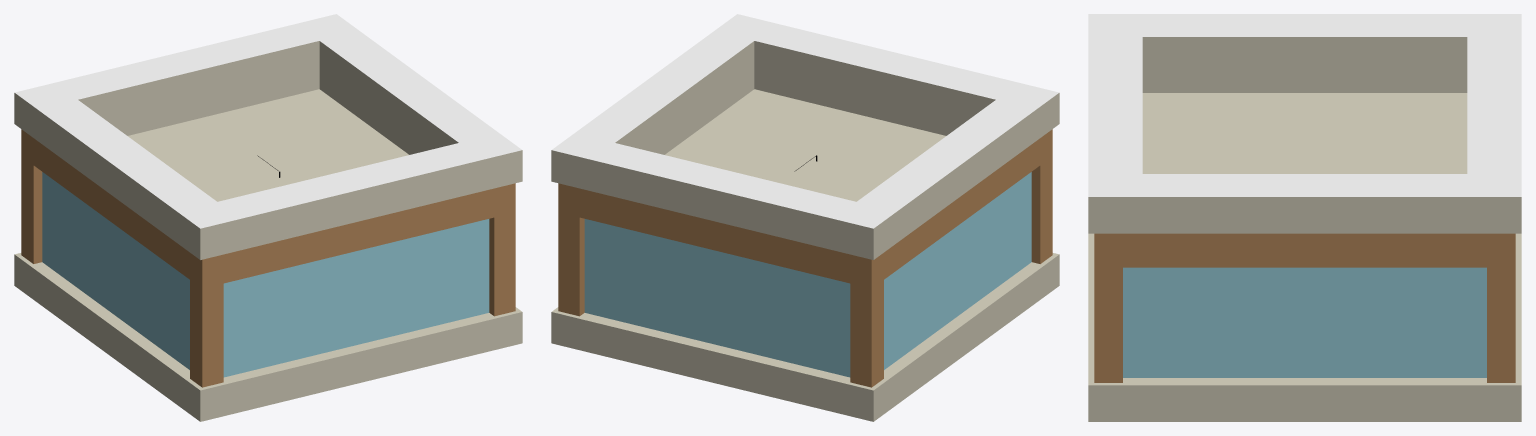
The model's file is Building 15.FBX.
The picture shows the model from 3 angles, left to right: view 1: azimuth 30°, elevation 25°; view 2: azimuth 150°, elevation 25°; view 3: azimuth 270°, elevation 25°; orthographic projection. The views are drawn at different scales.
Visible parts, largest first — view 1: Group42; view 2: Group42; view 3: Group42.
Part boxes in pixels (box(x1,y1,x2,y2)): Group42: box(14, 14, 522, 421); Group42: box(551, 14, 1059, 421); Group42: box(1088, 14, 1521, 421).
Bounding box in the file's own units: 29.53 × 16.93 × 29.53.
